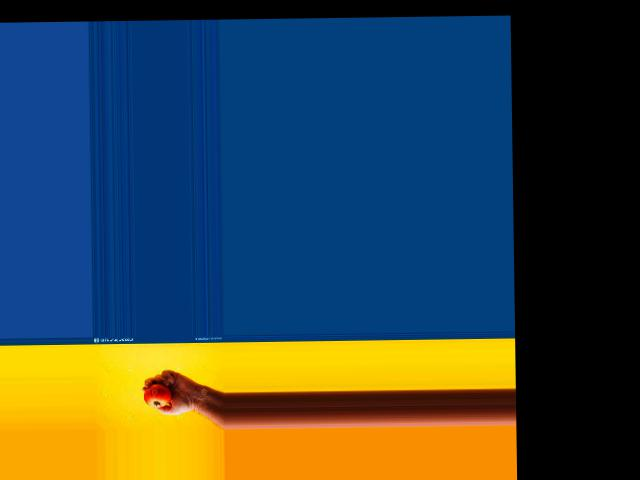tomato: (144, 383, 171, 406)
